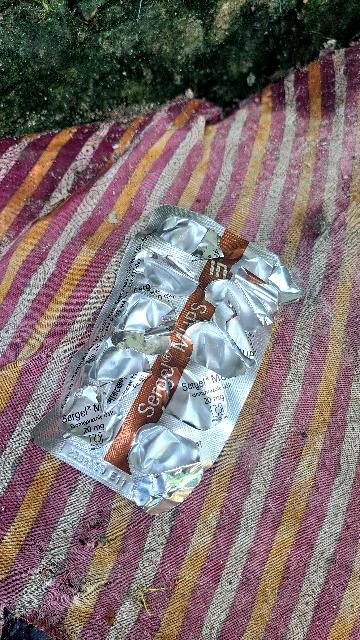medicine: (25, 183, 312, 516)
